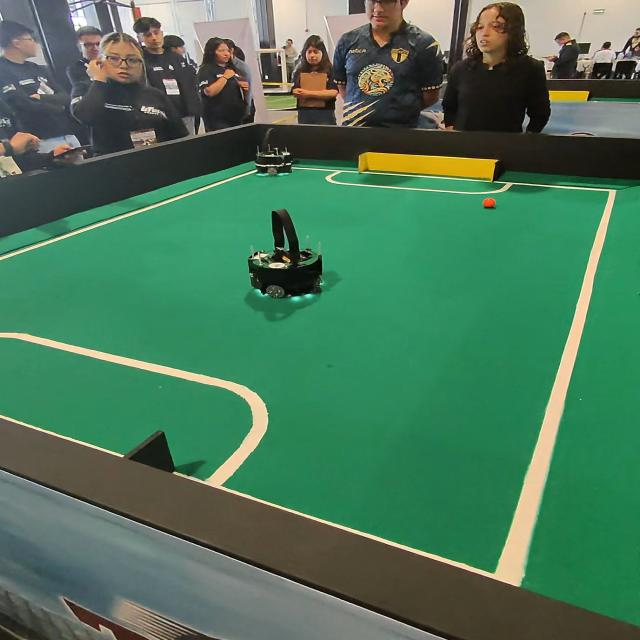Robot: (245, 200, 328, 310), (251, 120, 313, 187)
pelota: (466, 188, 514, 225)
